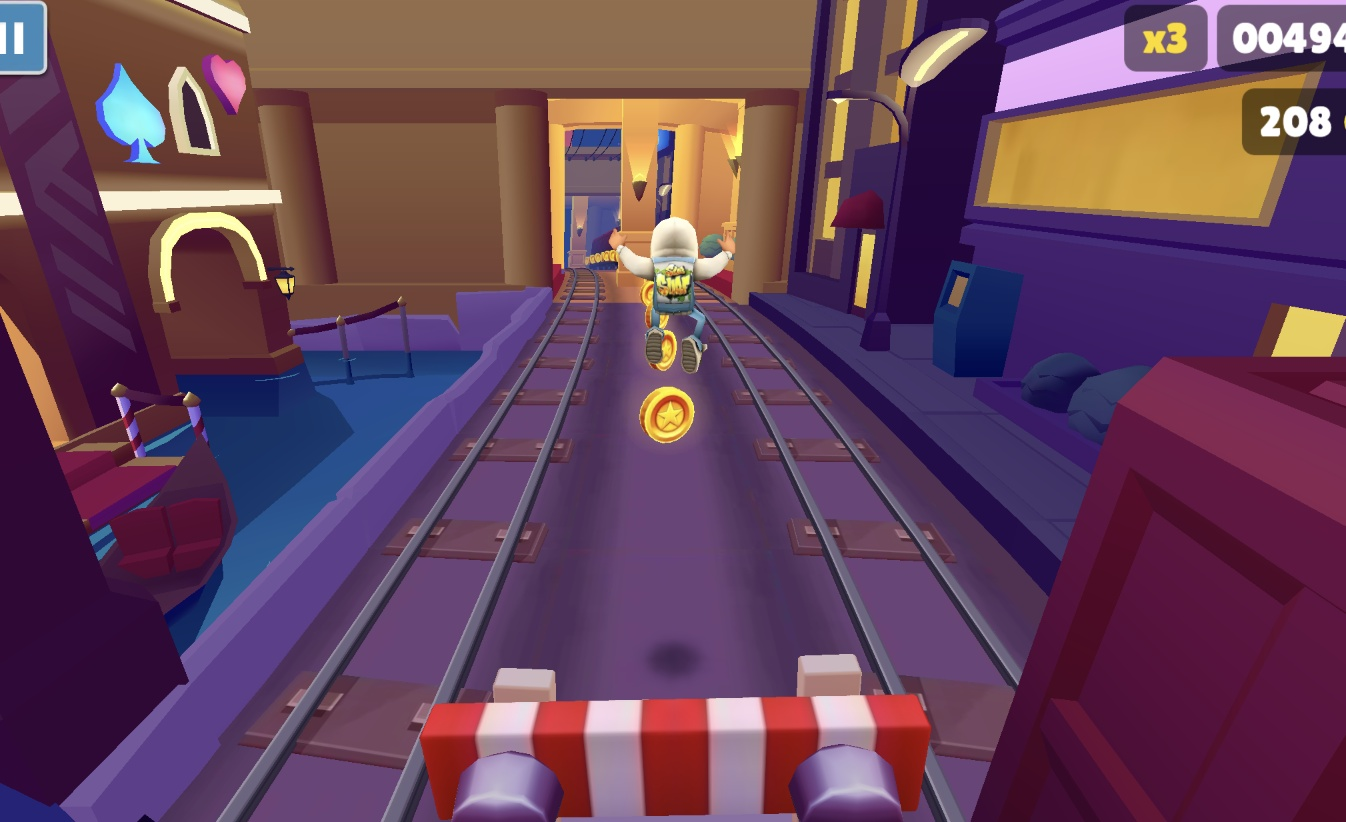ground_barrier: (421, 671, 936, 822)
pillar: (614, 99, 664, 287)
train: (1163, 356, 1346, 822)
